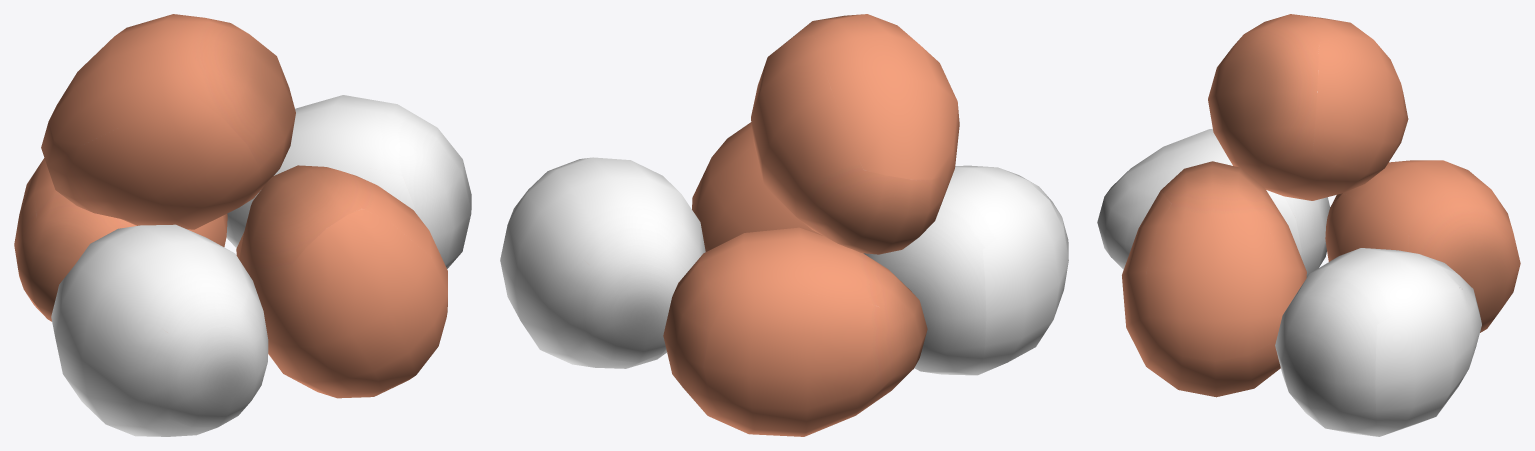
File: egg.fbx
3 renders of one model, left to right at view 1: azimuth 30°, elevation 25°; view 2: azimuth 150°, elevation 25°; view 3: azimuth 270°, elevation 25°, orthographic. The views are drawn at different scales.
Parts seen in each view (by area): view 1: pCube20; view 2: pCube20; view 3: pCube20.
Part boxes in pixels (bbox=[...]): pCube20: bbox=[14, 14, 471, 436]; pCube20: bbox=[500, 14, 1068, 436]; pCube20: bbox=[1097, 14, 1520, 436].
Bounding box in the file's own units: 85.36 × 62.91 × 76.25.
Materials: 2 (2 with a texture image).
